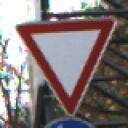preferencia: (12, 16, 121, 116)
